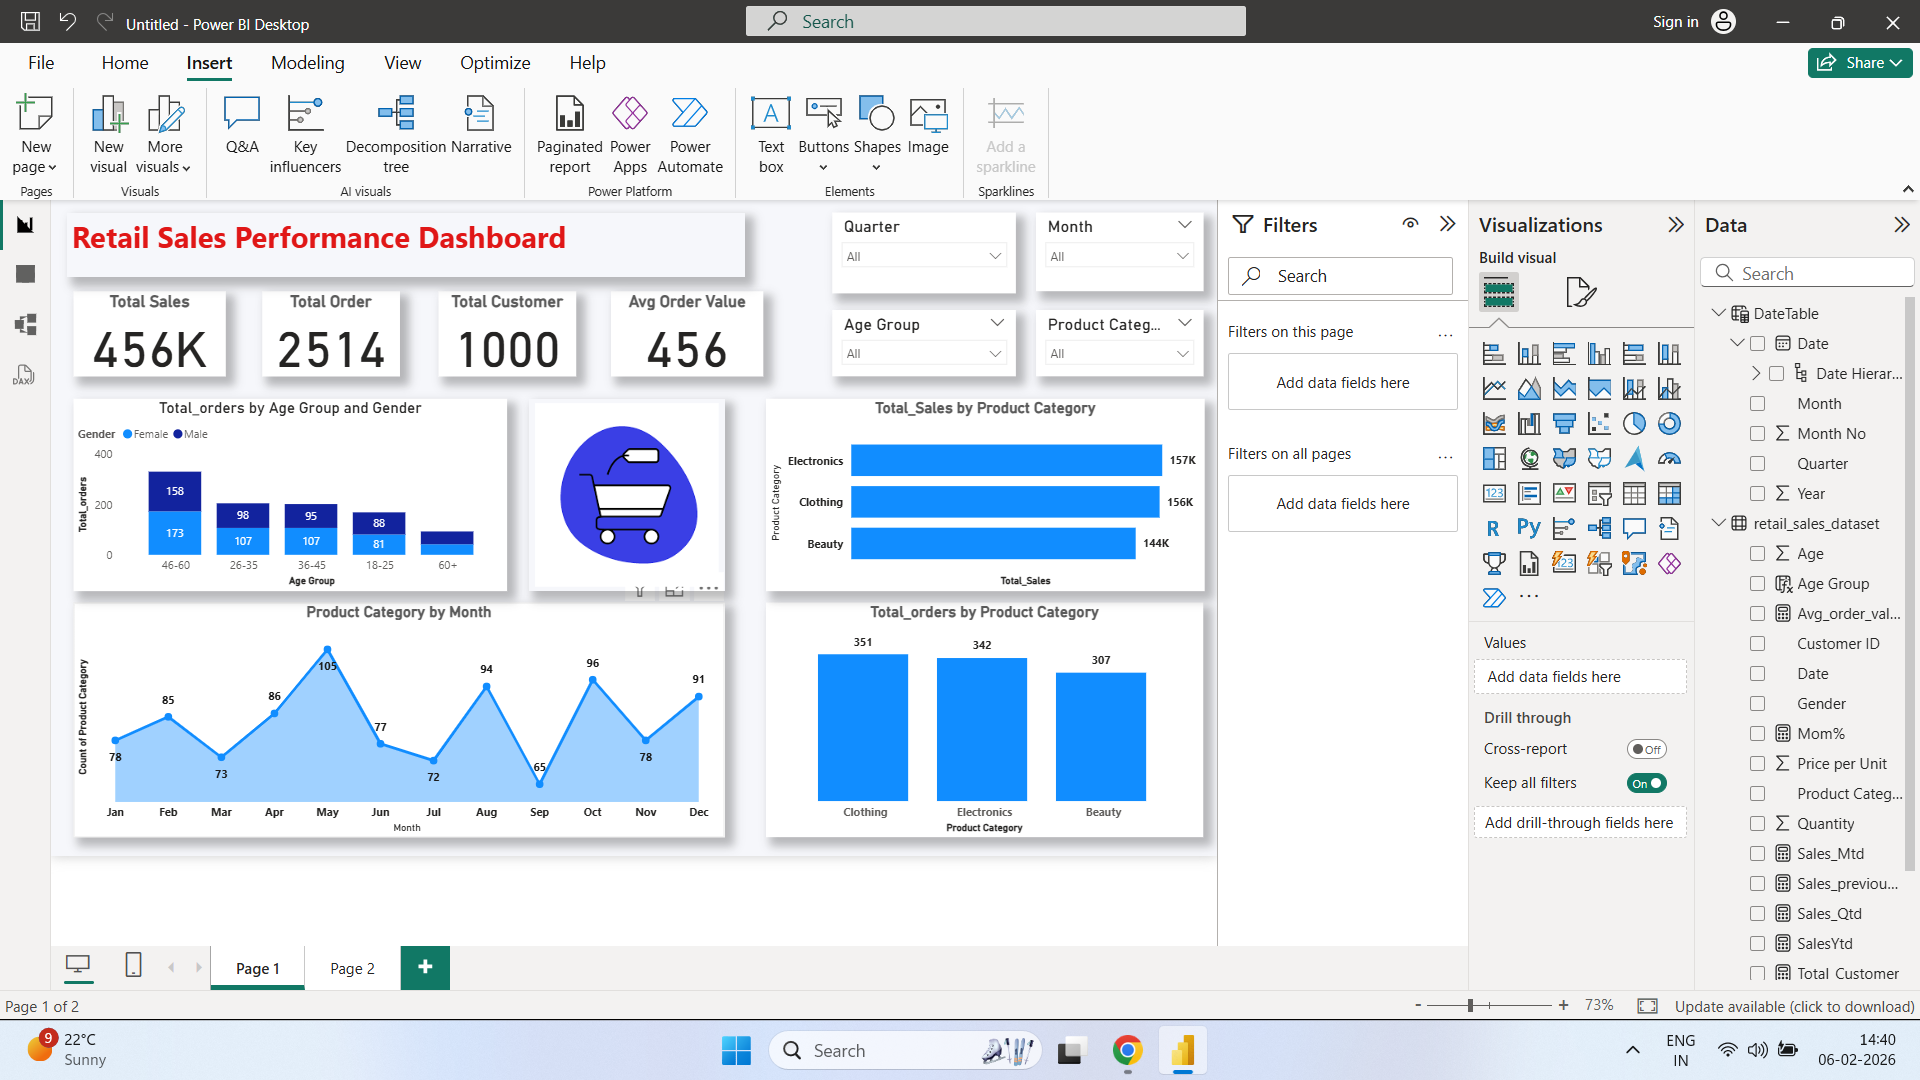

The dashboard page shown, as its layout file describes it:
{"tool":"powerbi","page":{"name":"Page 1","canvas":[1280,720],"ordinal":0},"visuals":[{"type":"card","title":"Total Sales","fields":{"Values":["retail_sales_dataset.Total_Sales"]},"box":[24.7,100.2,167.4,93.3],"z":0},{"type":"card","title":"Total Order","fields":{"Values":["retail_sales_dataset.Total_Qunatity"]},"box":[231.9,100.2,150.9,93.3],"z":1000},{"type":"card","title":"Avg Order Value","fields":{"Values":["retail_sales_dataset.Avg_order_value"]},"box":[614.8,100.2,167.4,93.3],"z":2000},{"type":"card","title":"Total Customer","fields":{"Values":["retail_sales_dataset.Total_Customer"]},"box":[425.4,100.2,150.9,93.3],"z":3000},{"type":"lineChart","title":"Product Category by Month","fields":{"Category":["DateTable.Month"],"Y":["retail_sales_dataset.Product Category"]},"box":[24.7,441.9,714.9,258],"z":4000},{"type":"columnChart","fields":{"Category":["retail_sales_dataset.Product Category"],"Y":["retail_sales_dataset.Total_orders"]},"box":[784.9,441.9,480.3,258],"z":5000},{"type":"columnChart","fields":{"Y":["retail_sales_dataset.Total_orders"],"Category":["retail_sales_dataset.Age Group"],"Series":["retail_sales_dataset.Gender"]},"box":[24.7,218.2,476.2,211.3],"z":6000},{"type":"barChart","fields":{"Category":["retail_sales_dataset.Product Category"],"Y":["retail_sales_dataset.Total_Sales"]},"box":[784.9,218.2,481.6,211.3],"z":8000},{"type":"textbox","box":[17.8,13.7,743.7,71.4],"z":9000},{"type":"slicer","fields":{"Values":["DateTable.Date.Variation.Date Hierarchy.Quarter"]},"box":[857.6,13.7,201.7,89.2],"z":10000},{"type":"slicer","fields":{"Values":["DateTable.Date.Variation.Date Hierarchy.Month"]},"box":[1081.3,13.7,183.9,86.4],"z":11000},{"type":"slicer","fields":{"Values":["retail_sales_dataset.Product Category"]},"box":[1081.3,120.8,183.9,72.7],"z":12000},{"type":"slicer","fields":{"Values":["retail_sales_dataset.Age Group"]},"box":[857.6,120.8,201.7,72.7],"z":13000},{"type":"image","box":[524.2,218.2,215.4,211.3],"z":13001}]}

Visuals, with their boxes on the page's 1280x720 design canvas (x1, y1, x2, y2). These are canvas units, not pixel positions in the 1920x1080 screenshot, which may show the page scaled, cropped or inside an application window:
"Total Sales" card: left=25, top=100, right=192, bottom=194
"Total Order" card: left=232, top=100, right=383, bottom=194
"Avg Order Value" card: left=615, top=100, right=782, bottom=194
"Total Customer" card: left=425, top=100, right=576, bottom=194
"Product Category by Month" lineChart: left=25, top=442, right=740, bottom=700
columnChart - retail_sales_dataset.Product Category x retail_sales_dataset.Total_orders: left=785, top=442, right=1265, bottom=700
columnChart - retail_sales_dataset.Total_orders x retail_sales_dataset.Age Group: left=25, top=218, right=501, bottom=430
barChart - retail_sales_dataset.Product Category x retail_sales_dataset.Total_Sales: left=785, top=218, right=1266, bottom=430
textbox: left=18, top=14, right=762, bottom=85
slicer - DateTable.Date.Variation.Date Hierarchy.Quarter: left=858, top=14, right=1059, bottom=103
slicer - DateTable.Date.Variation.Date Hierarchy.Month: left=1081, top=14, right=1265, bottom=100
slicer - retail_sales_dataset.Product Category: left=1081, top=121, right=1265, bottom=194
slicer - retail_sales_dataset.Age Group: left=858, top=121, right=1059, bottom=194
image: left=524, top=218, right=740, bottom=430
